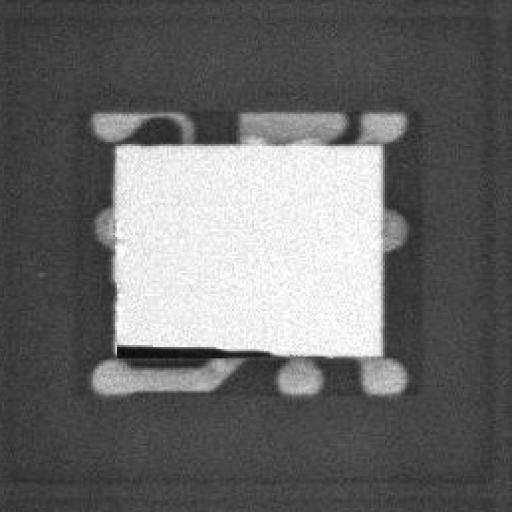DIE_BROKEN: (111, 340, 278, 358)
